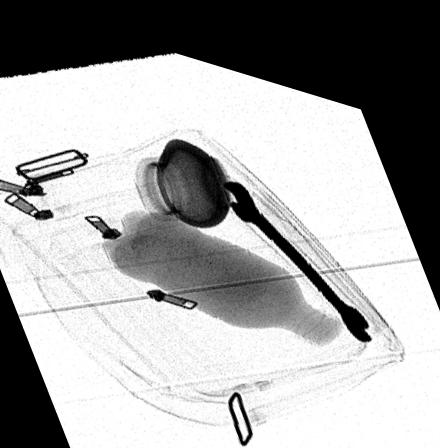Wrench: (218, 166, 375, 323)
